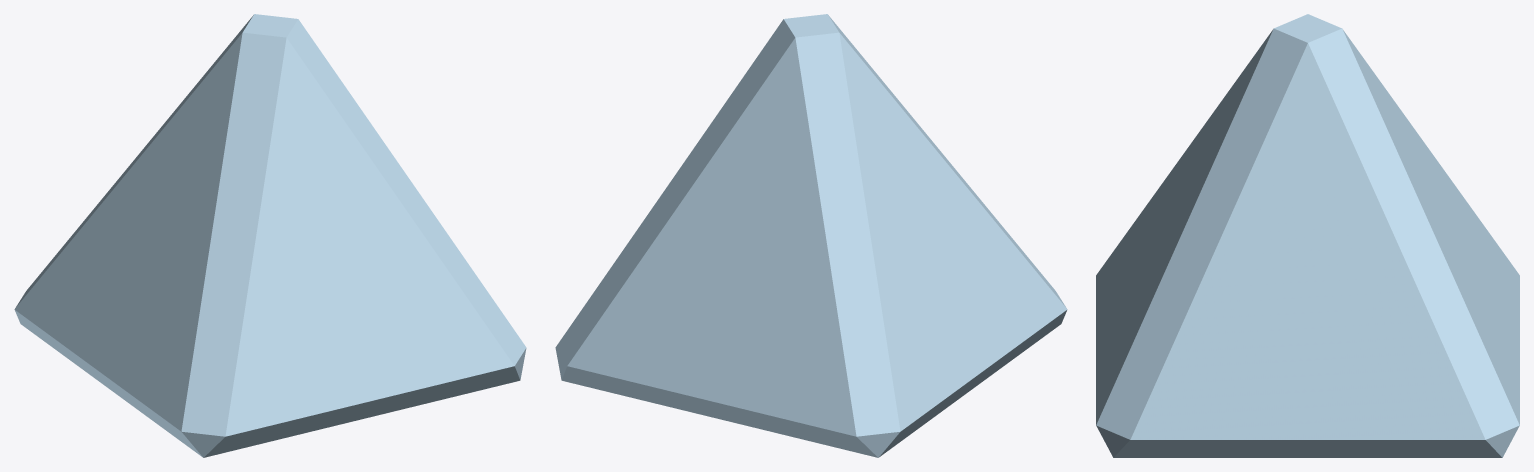
3 views of the same model, side by side, from view 1: azimuth 30°, elevation 25°; view 2: azimuth 150°, elevation 25°; view 3: azimuth 270°, elevation 25° (orthographic). The views are drawn at different scales.
Parts seen in each view (by area): view 1: R4B_Pyramid; view 2: R4B_Pyramid; view 3: R4B_Pyramid.
Boxes of the visible parts, bbox=[...] form: R4B_Pyramid: bbox=[14, 14, 526, 457]; R4B_Pyramid: bbox=[555, 14, 1067, 457]; R4B_Pyramid: bbox=[1096, 14, 1519, 457].
Bounding box in the file's own units: 0.4878 × 0.4411 × 0.4878.
